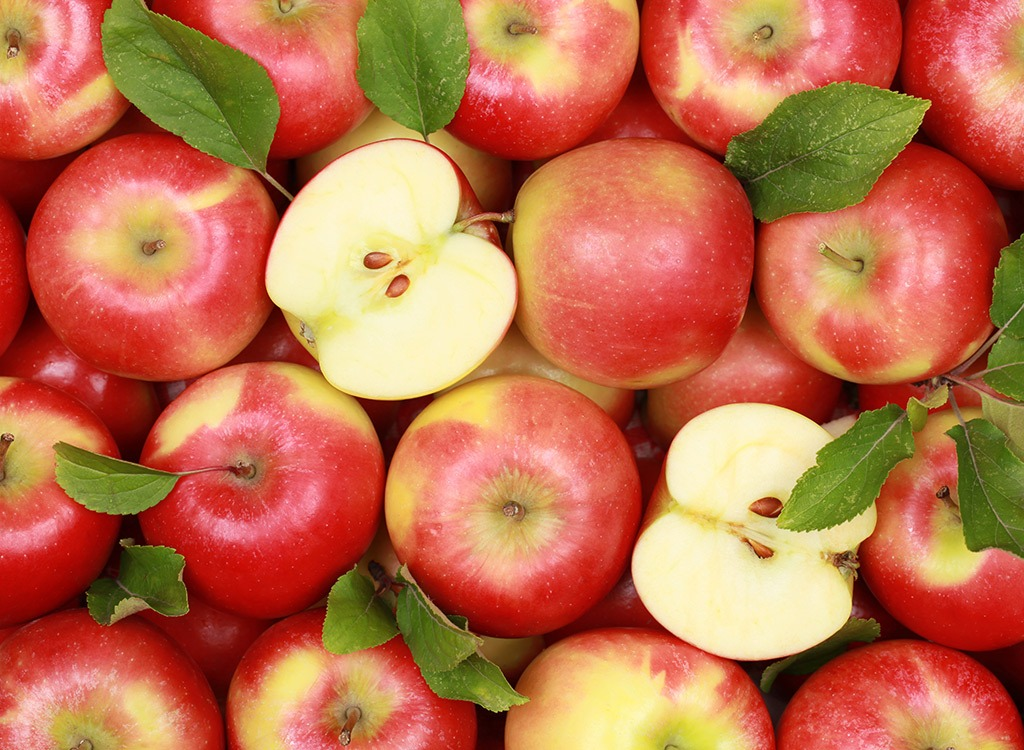Apple: (251, 118, 528, 428), (137, 335, 396, 618), (20, 85, 268, 376), (625, 388, 861, 680), (489, 138, 770, 381), (739, 109, 1003, 362), (392, 369, 623, 635)
